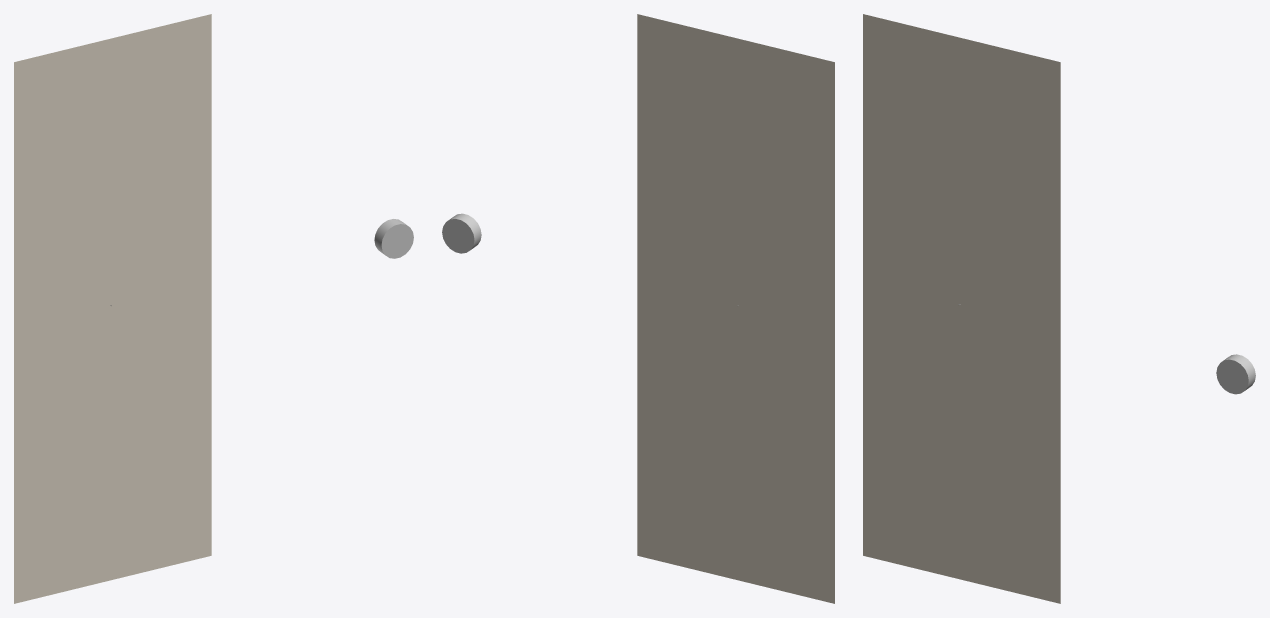
Rendered from arm07.fbx.
3 views of the same model, side by side, from view 1: azimuth 30°, elevation 25°; view 2: azimuth 150°, elevation 25°; view 3: azimuth 330°, elevation 25° (orthographic).
Parts seen in each view (by area): view 1: Plane001, Cylinder007; view 2: Plane001, Cylinder007; view 3: Plane001, Cylinder007.
Part boxes in pixels (x1,y1,x2,y2): Plane001: [14, 14, 211, 603]; Cylinder007: [374, 219, 413, 258]; Plane001: [637, 14, 834, 603]; Cylinder007: [442, 213, 481, 253]; Plane001: [863, 14, 1060, 603]; Cylinder007: [1216, 354, 1255, 394].
Bounding box in the file's own units: 984 × 1296 × 34.79.
